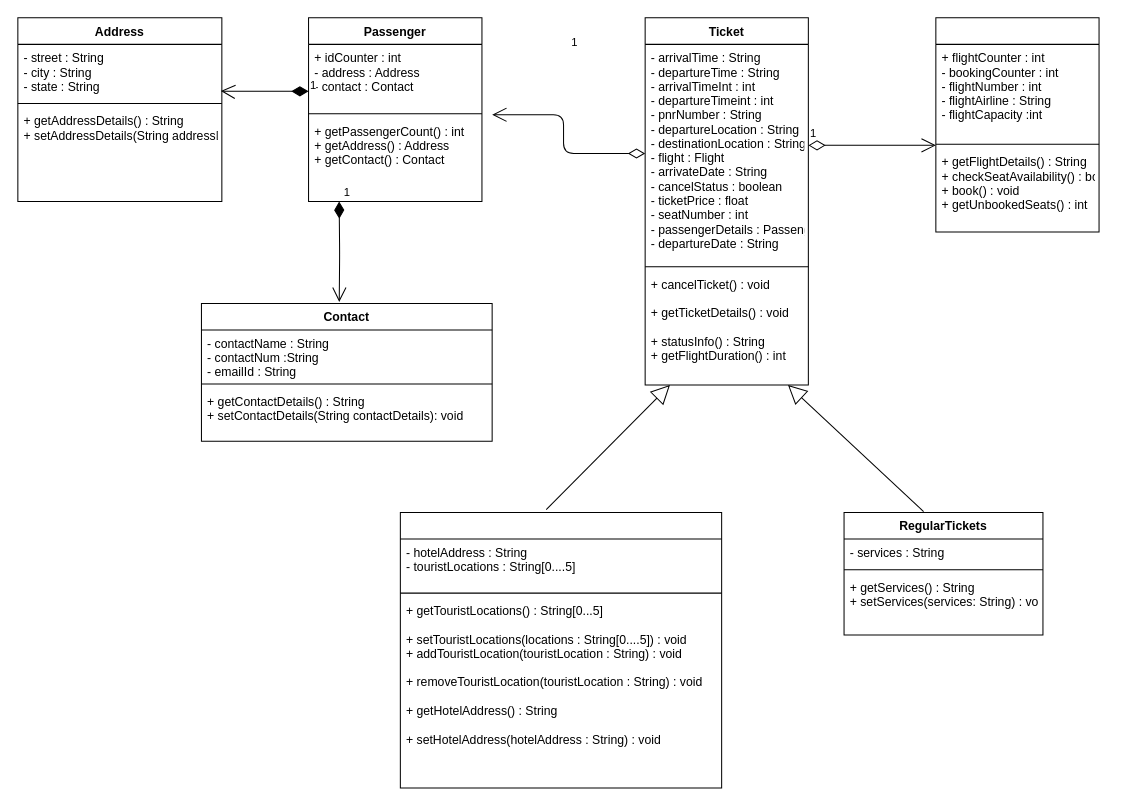
The diagram is 1145 pixels wide and 809 high, and some of its shapes have lost their labels. The box of each missing label's shape, as (x1, y1, x2, y2) in pixels:
Classname: (935, 17, 1099, 232)
TouristTickets: (399, 512, 722, 788)
